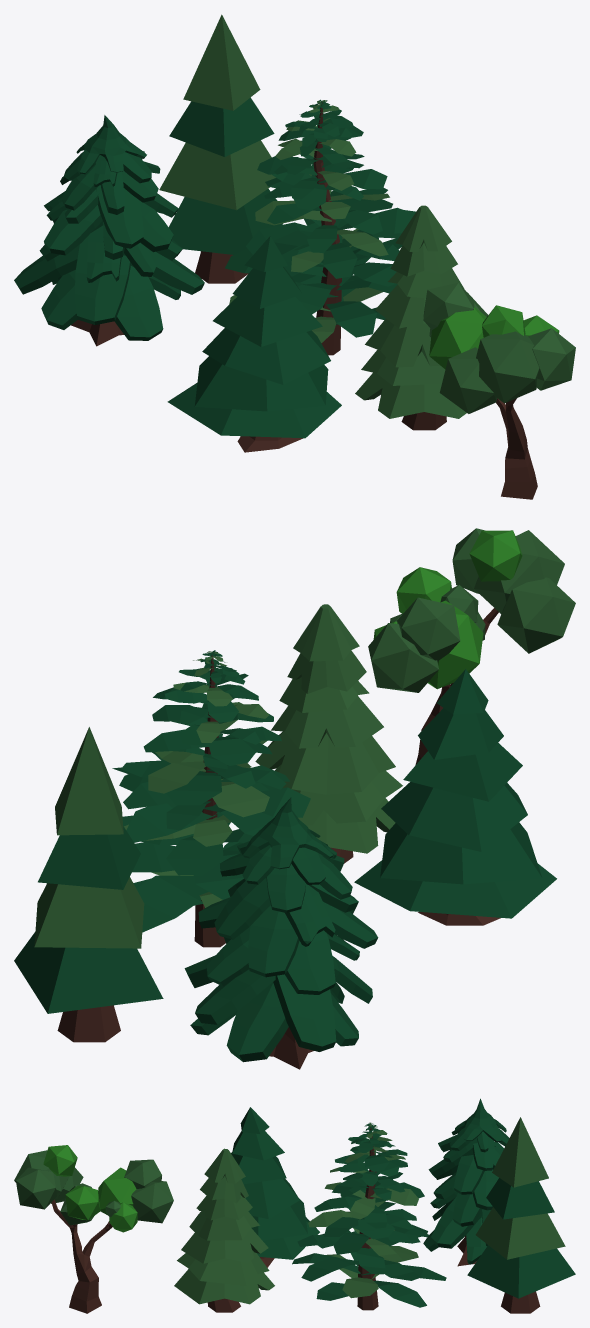
Rendered from lowpoly_trees.glb.
3 views of the same model, one above another, from view 1: azimuth 30°, elevation 25°; view 2: azimuth 150°, elevation 25°; view 3: azimuth 270°, elevation 25° (orthographic). The views are drawn at different scales.
Visible parts, largest first — view 1: pinetree.003, tree.001, pinetree.002, pinetree, oaktree, pinetree.001; view 2: pinetree.003, tree.001, pinetree.002, pinetree, oaktree, pinetree.001; view 3: tree.001, pinetree, oaktree, pinetree.001, pinetree.003, pinetree.002.
Part boxes in pixels (x1,y1,x2,y2): pinetree.003: (14,115,204,346); tree.001: (225,99,415,355); pinetree.002: (167,236,341,452); pinetree: (159,14,282,283); oaktree: (423,282,575,499); pinetree.001: (355,205,466,430); pinetree.003: (184,797,378,1069); tree.001: (112,650,310,947); pinetree.002: (354,669,556,925); pinetree: (14,727,163,1042); oaktree: (368,528,575,765); pinetree.001: (255,604,402,863); tree.001: (292,1122,446,1310); pinetree: (467,1117,575,1313); oaktree: (14,1145,173,1313); pinetree.001: (174,1148,274,1312); pinetree.003: (423,1098,509,1266); pinetree.002: (231,1107,319,1267).
Bounding box in the file's own units: 6.44 × 5.3 × 14.21.
